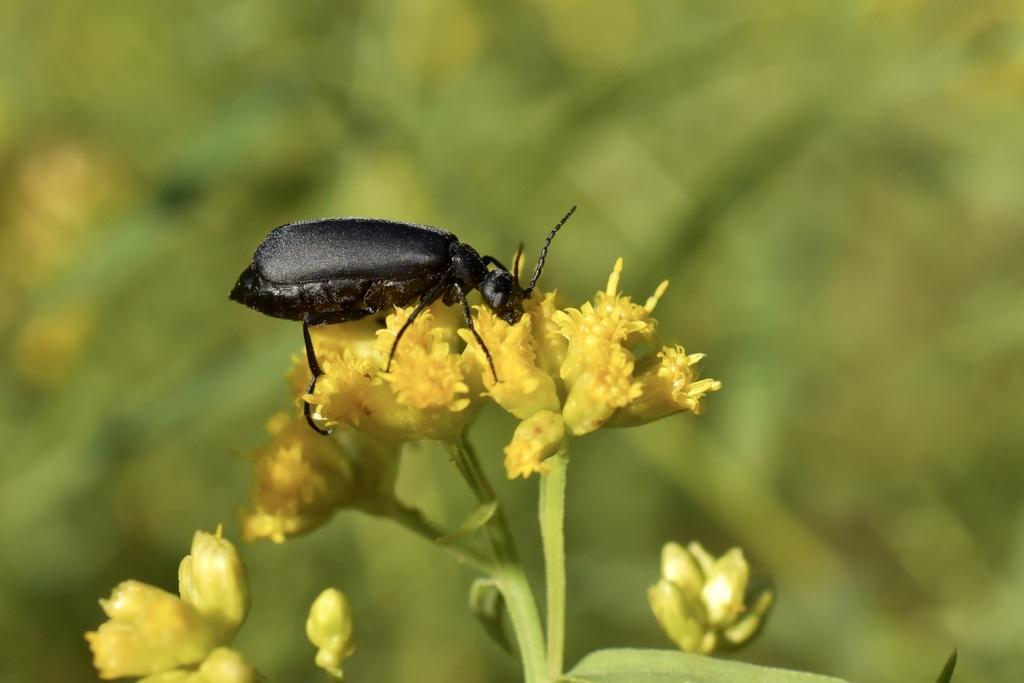blister_beetle: (168, 138, 641, 468)
